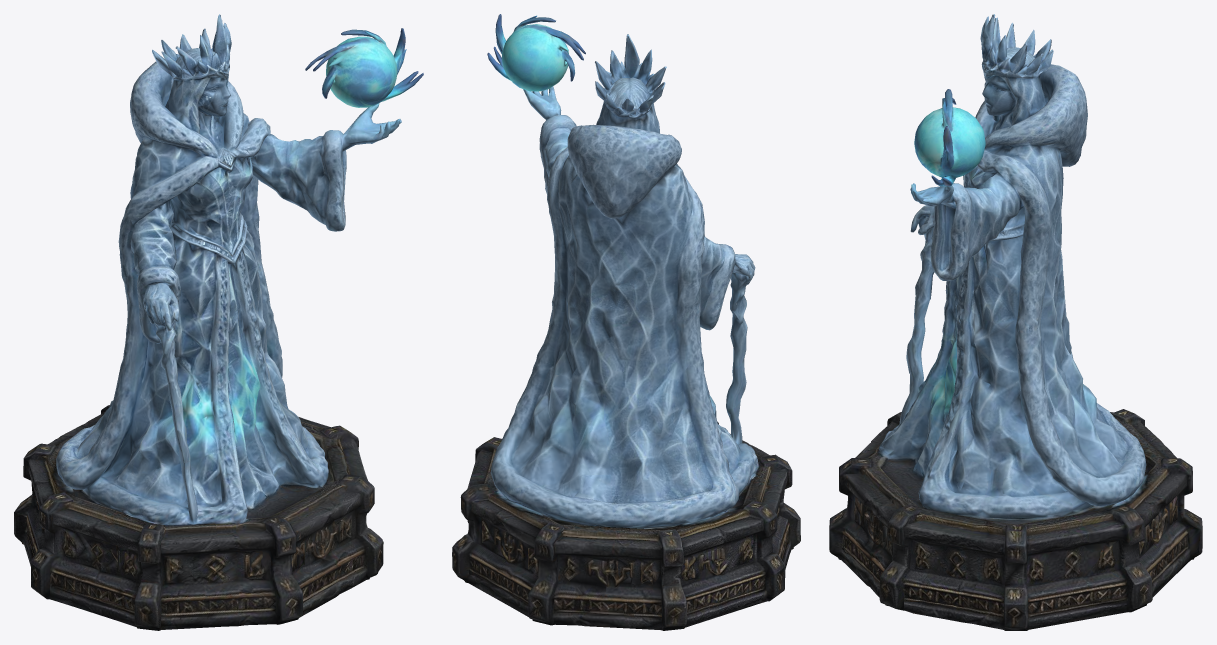
The model's file is arquimaga_branco.glb.
3 views of the same model, side by side, from view 1: azimuth 30°, elevation 25°; view 2: azimuth 150°, elevation 25°; view 3: azimuth 270°, elevation 25° (orthographic). The views are drawn at different scales.
Parts seen in each view (by area): view 1: tripo_node_ef2db684-b5fd-4831-835d-e10520cf4b15; view 2: tripo_node_ef2db684-b5fd-4831-835d-e10520cf4b15; view 3: tripo_node_ef2db684-b5fd-4831-835d-e10520cf4b15.
Part boxes in pixels (left/top/right/bottom): tripo_node_ef2db684-b5fd-4831-835d-e10520cf4b15: left=14, top=14, right=423, bottom=630; tripo_node_ef2db684-b5fd-4831-835d-e10520cf4b15: left=452, top=14, right=800, bottom=630; tripo_node_ef2db684-b5fd-4831-835d-e10520cf4b15: left=829, top=14, right=1202, bottom=630.
Size of the model in its own units: 0.6485 by 0.983 by 0.6091.
1 material, 1 textured.
